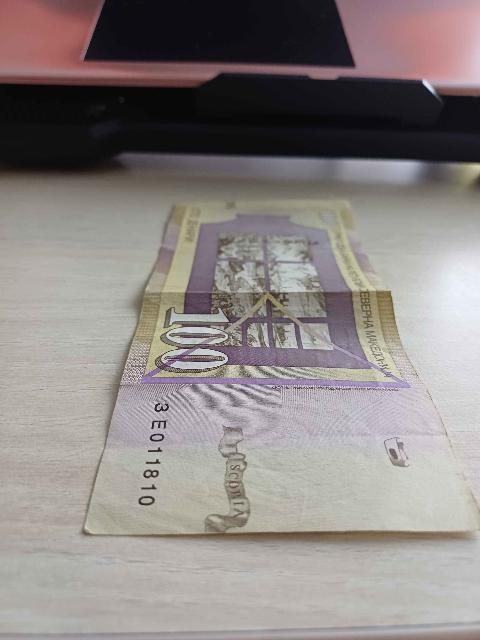note: (86, 201, 479, 534)
